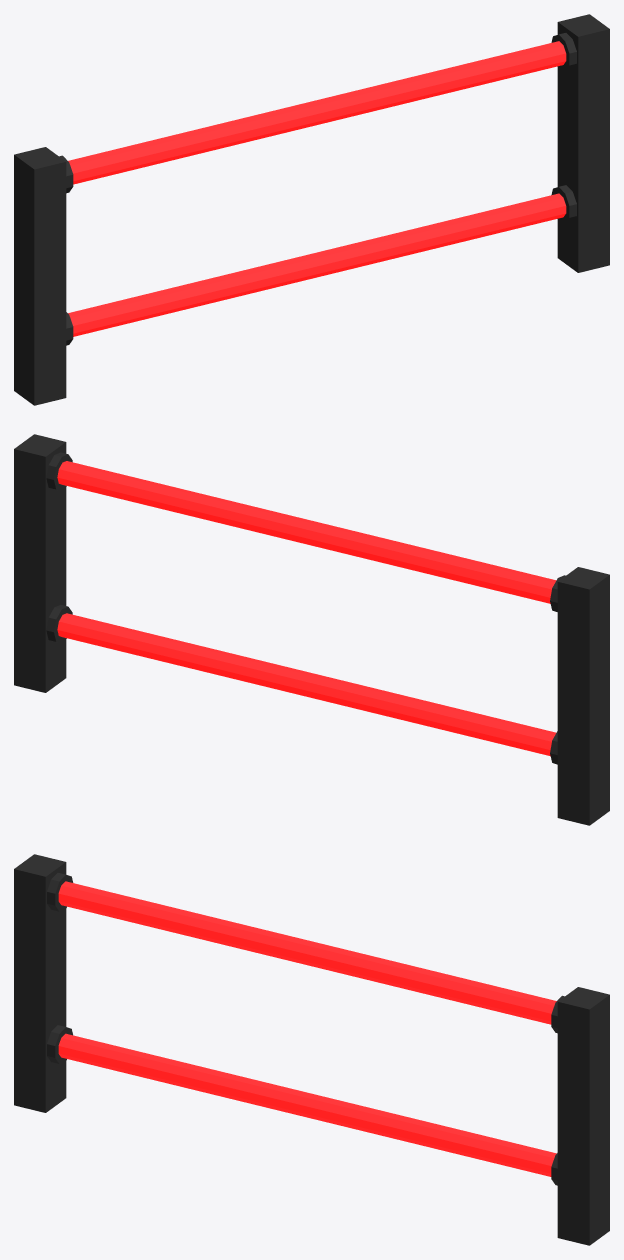
The model's file is LazerFence1.fbx.
3 views of the same model, one above another, from view 1: azimuth 30°, elevation 25°; view 2: azimuth 150°, elevation 25°; view 3: azimuth 330°, elevation 25° (orthographic).
Visible parts, largest first — view 1: Cube.004, Cylinder, Cylinder.001, Cube.003; view 2: Cube.004, Cylinder.001, Cylinder, Cube.003, Cylinder.002, Cylinder.003; view 3: Cube.003, Cylinder.001, Cylinder, Cube.004, Cylinder.004, Cylinder.005.
Boxes of the visible parts, x1=… form: Cube.004: x1=14, y1=147, x2=66, y2=405; Cylinder: x1=68, y1=41, x2=566, y2=184; Cylinder.001: x1=68, y1=193, x2=566, y2=336; Cube.003: x1=557, y1=14, x2=609, y2=272; Cube.004: x1=557, y1=567, x2=609, y2=825; Cylinder.001: x1=57, y1=613, x2=556, y2=756; Cylinder: x1=57, y1=461, x2=556, y2=603; Cube.003: x1=14, y1=434, x2=66, y2=692; Cylinder.002: x1=46, y1=452, x2=72, y2=491; Cylinder.003: x1=46, y1=605, x2=72, y2=643; Cube.003: x1=557, y1=987, x2=609, y2=1245; Cylinder.001: x1=58, y1=1033, x2=556, y2=1176; Cylinder: x1=58, y1=881, x2=556, y2=1024; Cube.004: x1=14, y1=854, x2=66, y2=1112; Cylinder.004: x1=47, y1=873, x2=73, y2=911; Cylinder.005: x1=47, y1=1025, x2=72, y2=1063.
Size of the model in its own units: 1.99 by 0.7821 by 0.1222.
